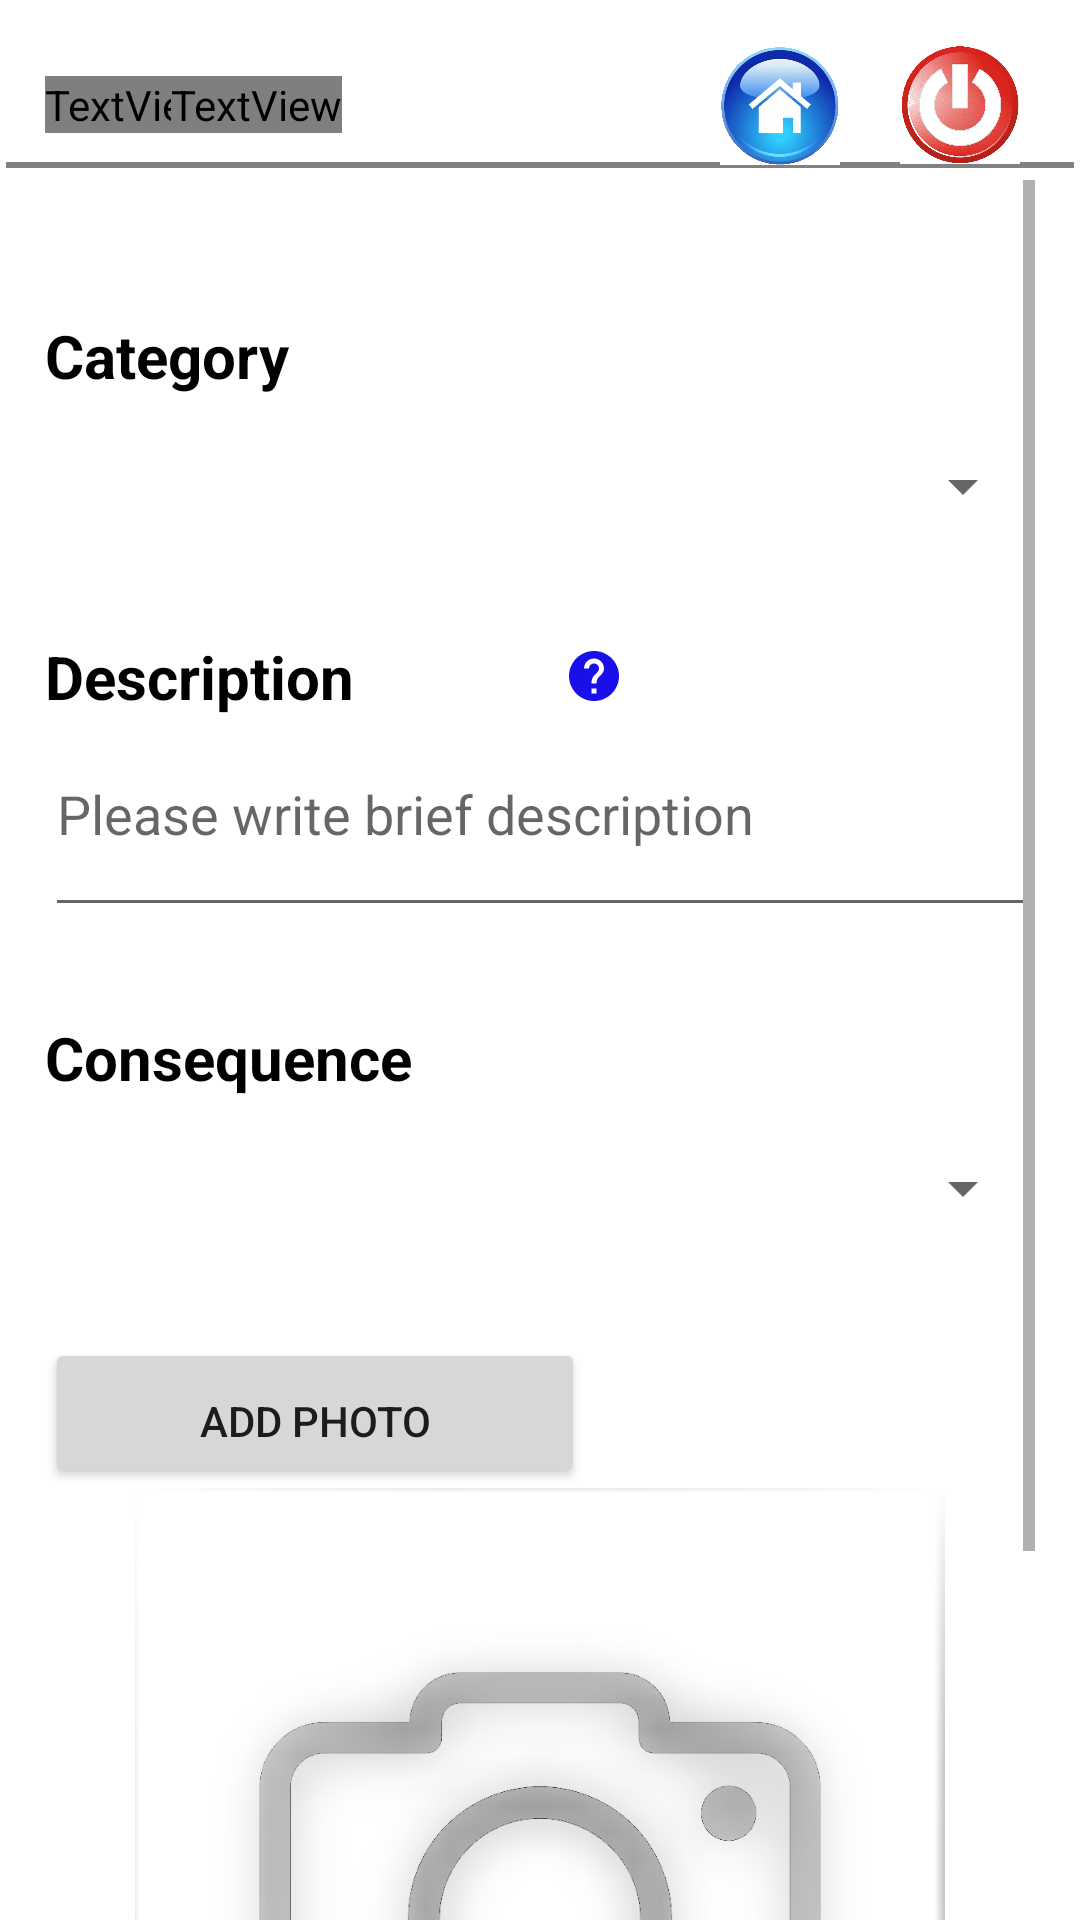

Point at icon controls on the screen. Image size 1080px x 1920px, points as (x=x, y=y).
help: (x=594, y=676)
home: (x=780, y=107)
sign out: (x=960, y=104)
